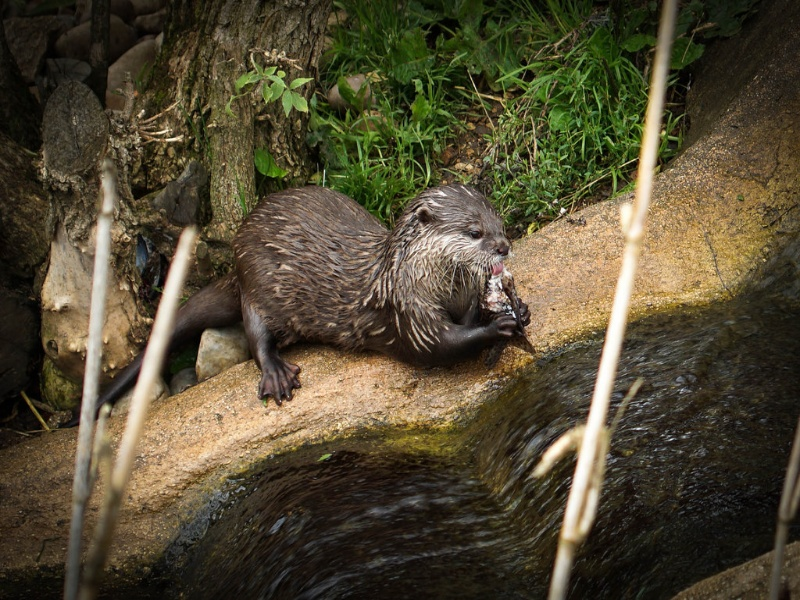minkish: (59, 181, 546, 405)
